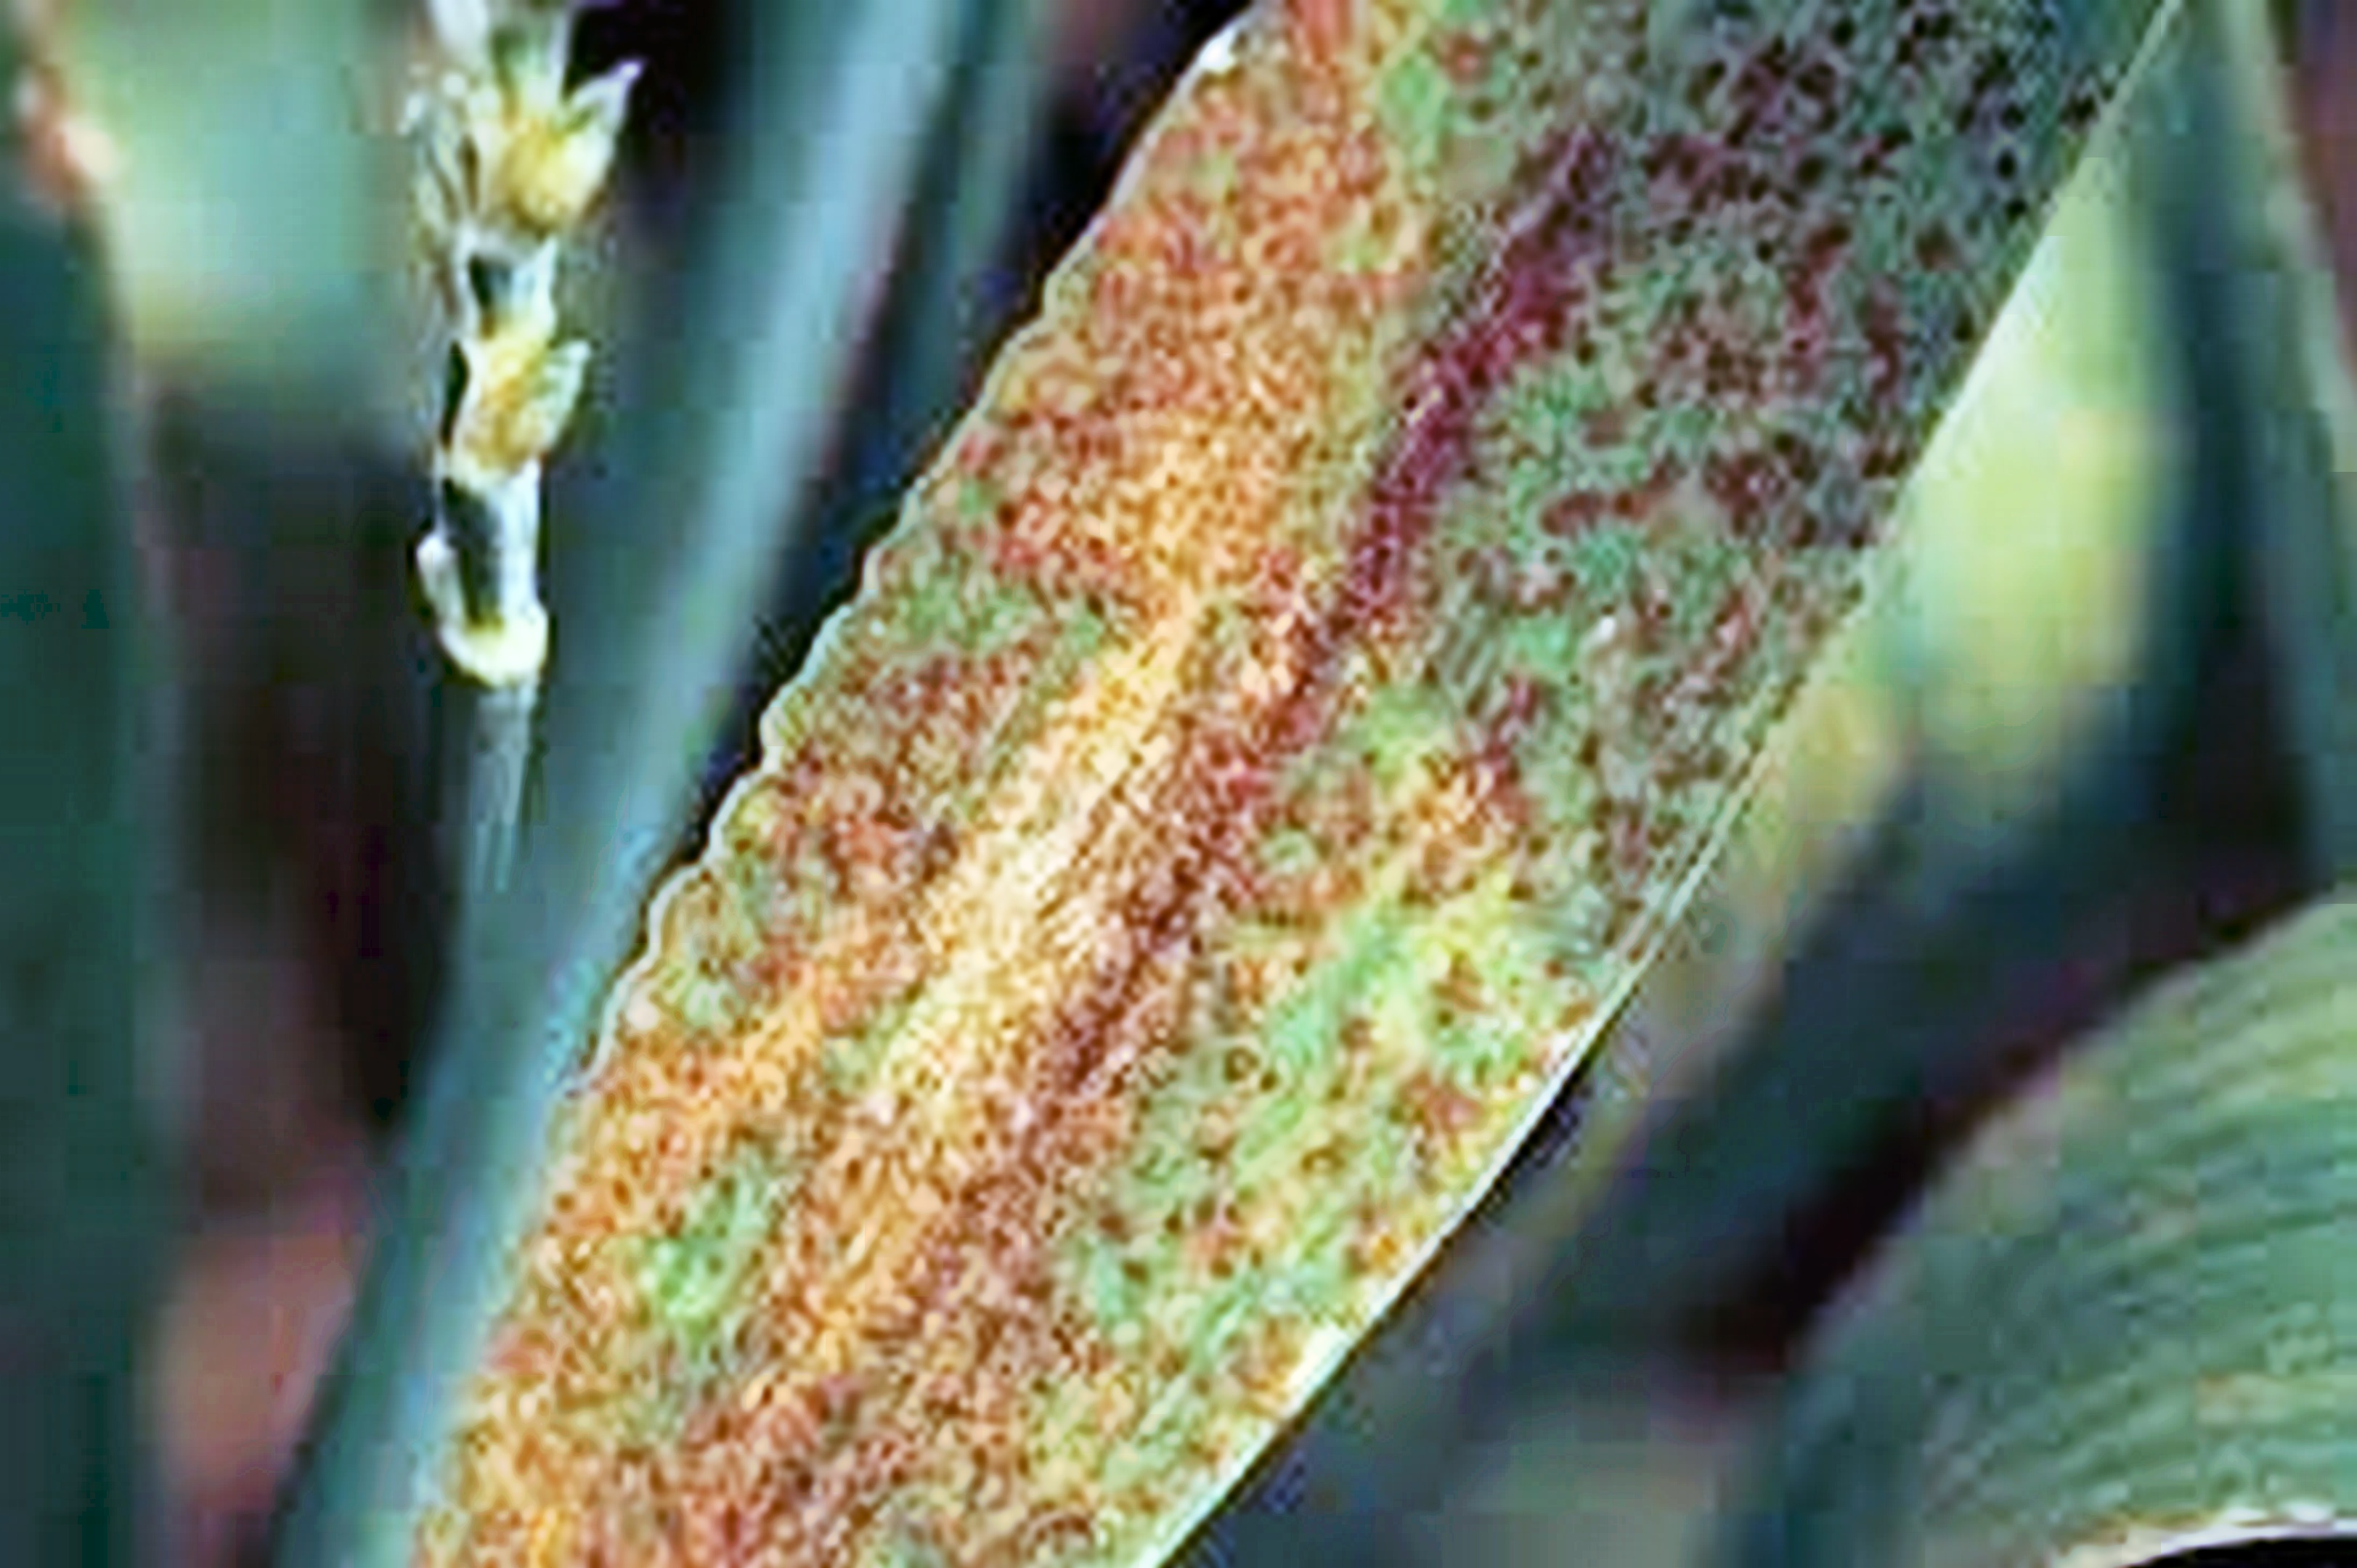Leaf Rust: (623, 100, 1925, 1428)
